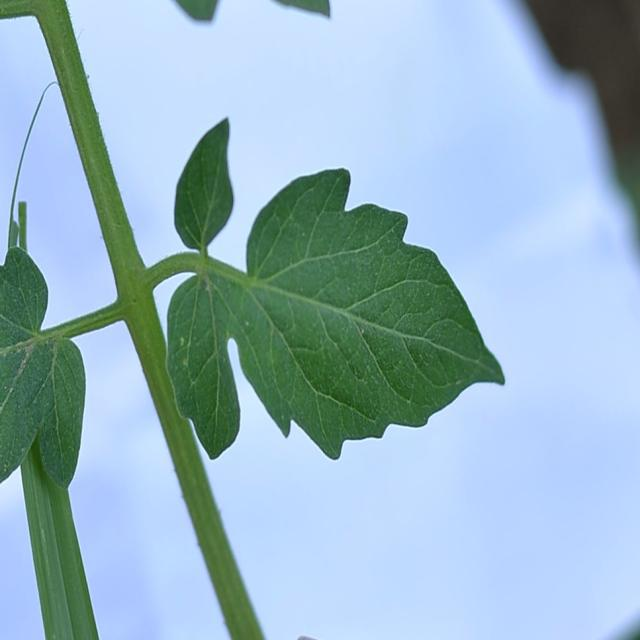healthy: (156, 161, 512, 466), (168, 113, 239, 254)
